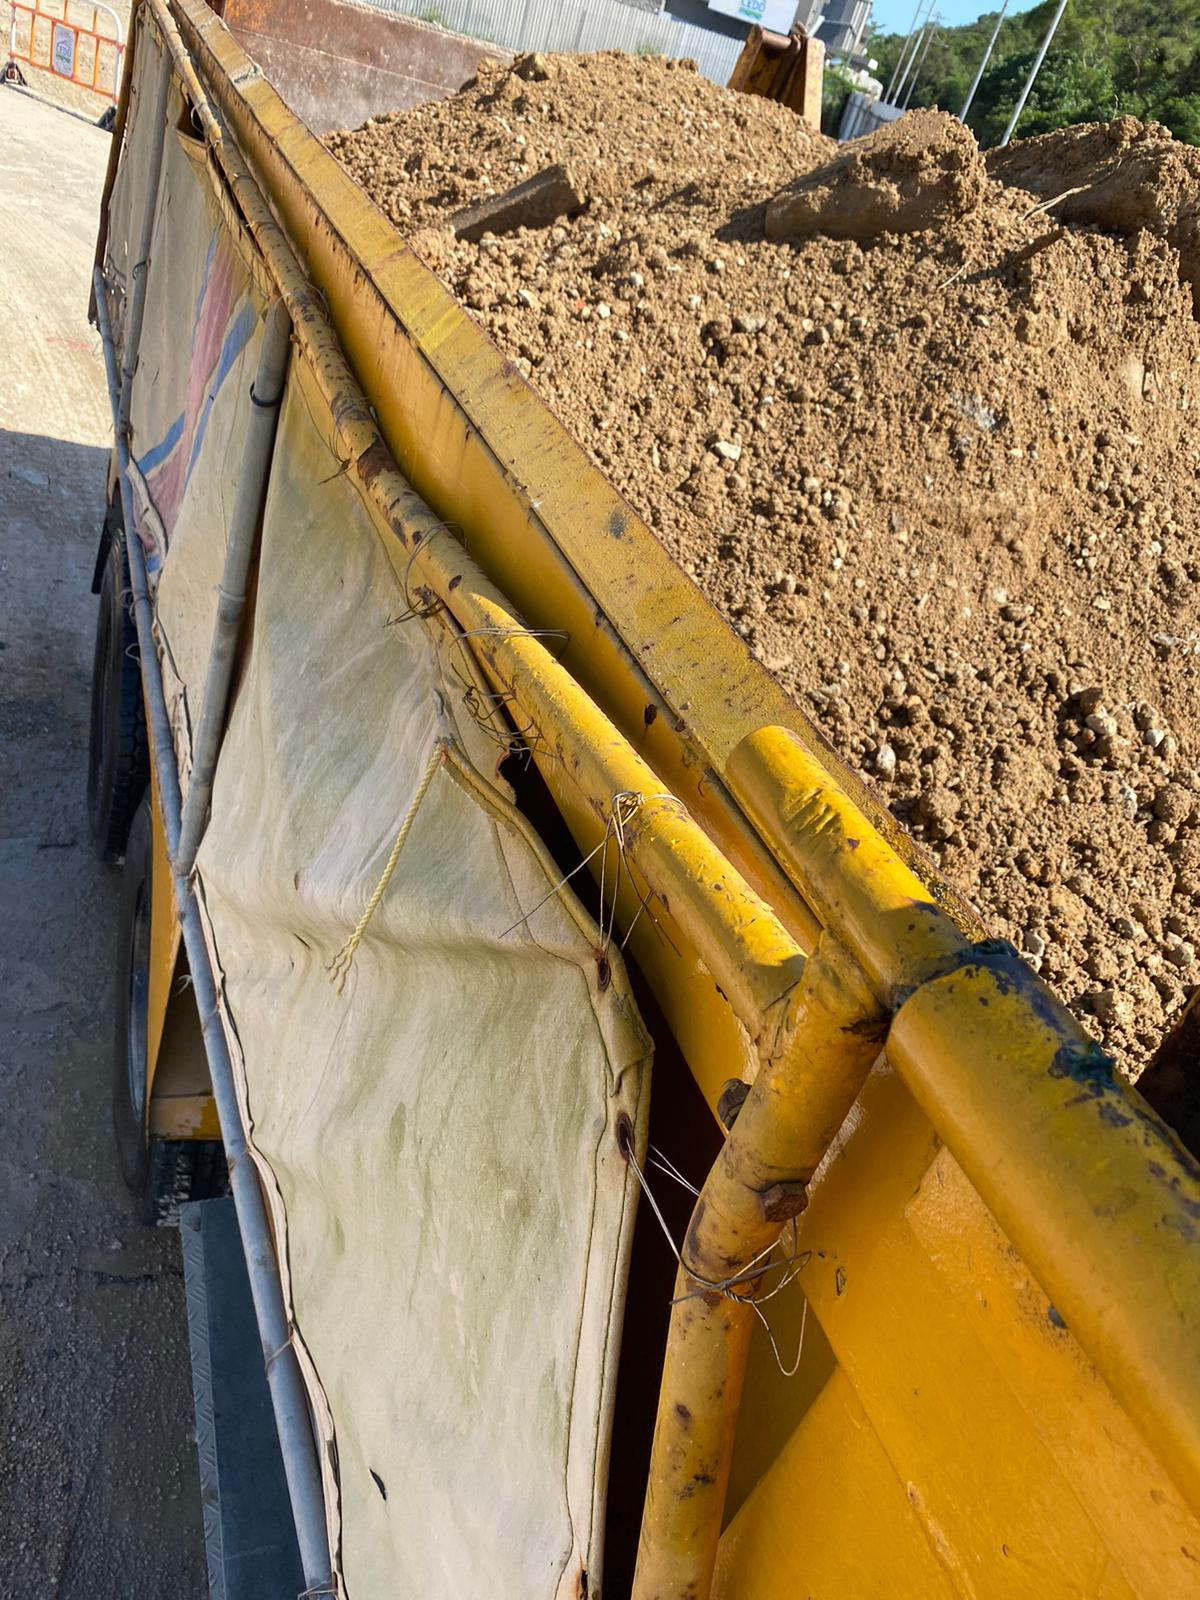dry: (345, 66, 1200, 1075)
